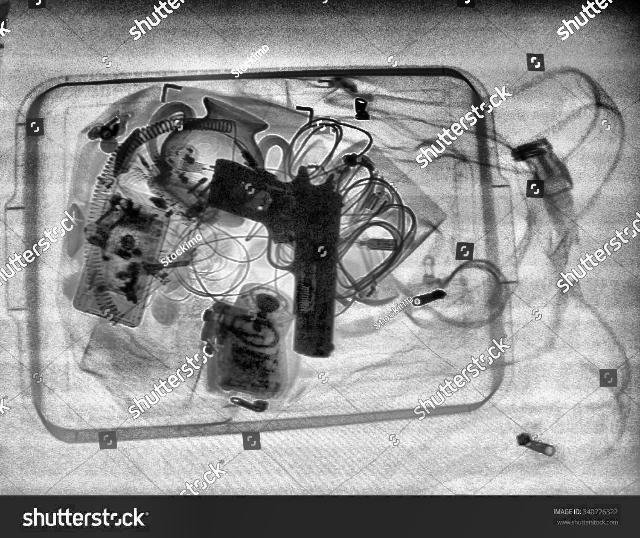Gun: (200, 155, 346, 359)
